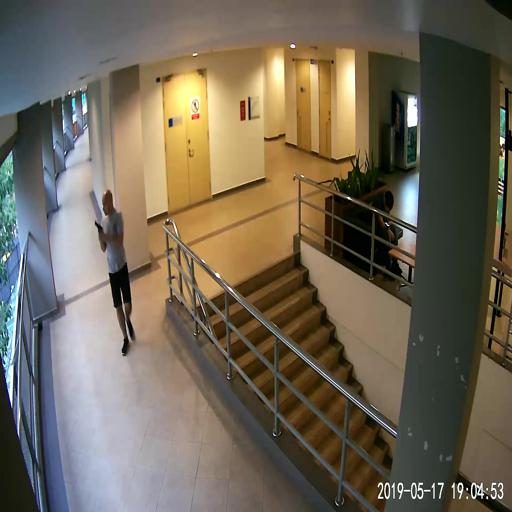pistol: (94, 220, 102, 240)
